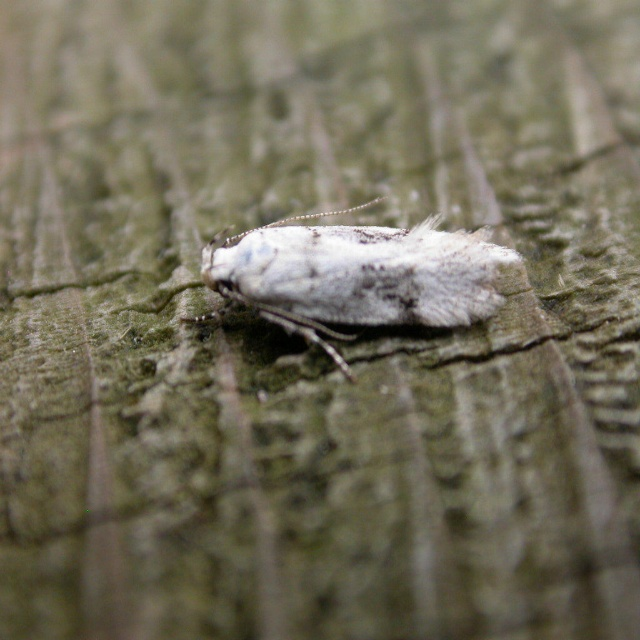Moths and butterflies: (175, 196, 523, 384)
